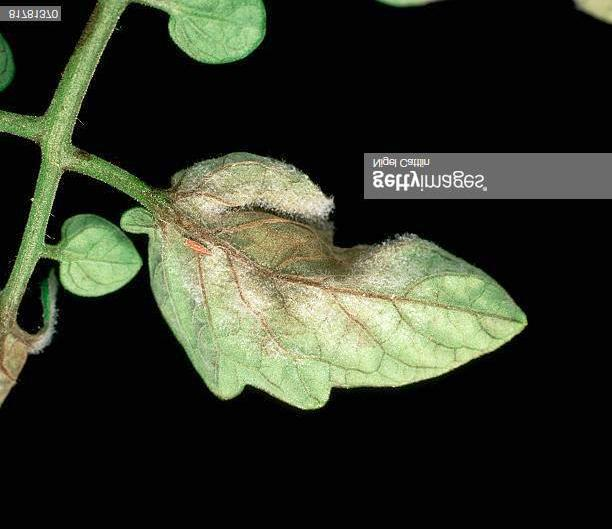Tomato leaf late blight: (135, 144, 533, 411)
